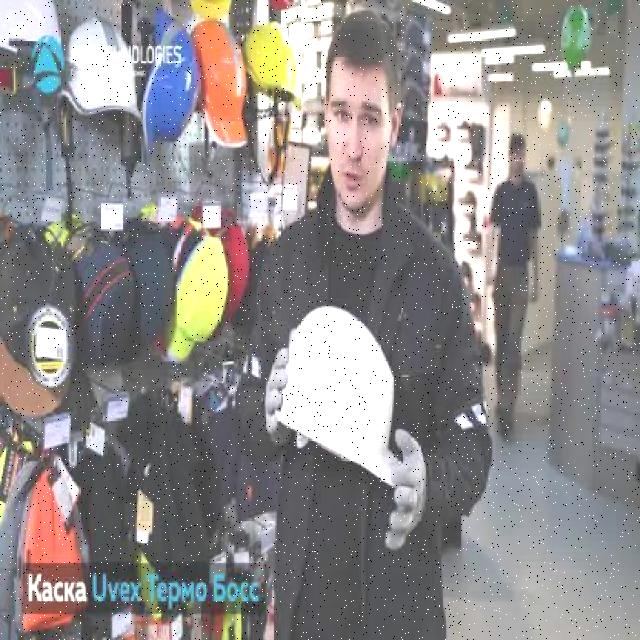Gloves: (384, 424, 428, 556), (264, 325, 292, 443)
Helmet: (277, 300, 405, 488), (141, 9, 201, 165), (61, 13, 142, 118), (192, 20, 248, 148), (242, 20, 304, 114), (0, 0, 72, 72)
